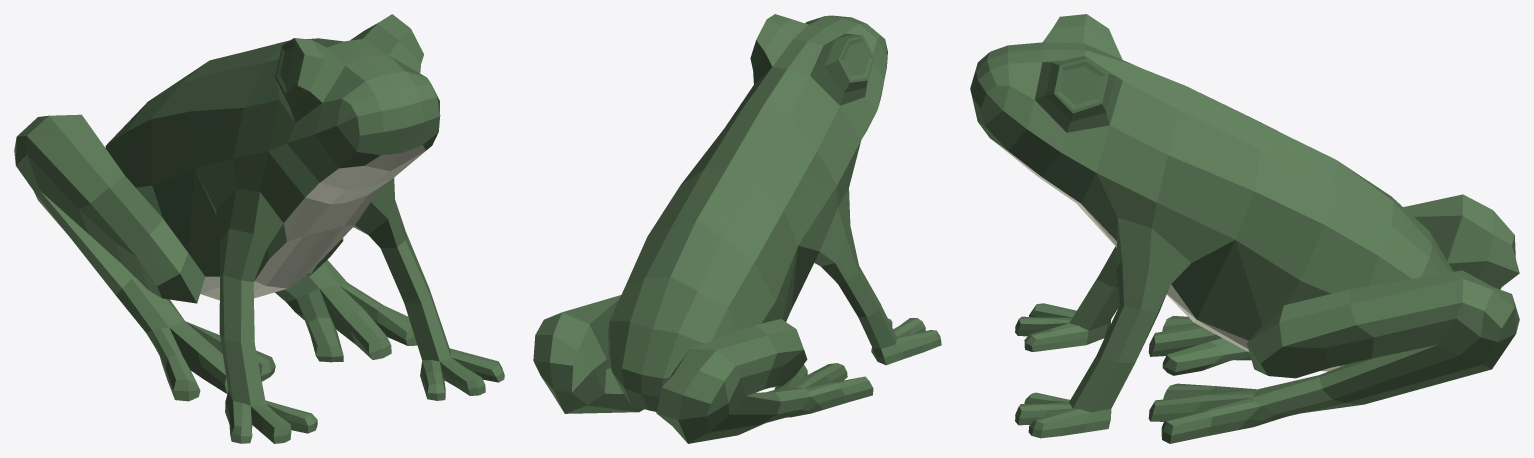
Rendered from frog.glb.
3 renders of one model, left to right at view 1: azimuth 30°, elevation 25°; view 2: azimuth 150°, elevation 25°; view 3: azimuth 270°, elevation 25°, orthographic. The views are drawn at different scales.
Visible parts, largest first — view 1: 11frogFinal; view 2: 11frogFinal; view 3: 11frogFinal.
Part boxes in pixels (left/top/right/bottom): 11frogFinal: left=14, top=14, right=504, bottom=443; 11frogFinal: left=533, top=14, right=941, bottom=443; 11frogFinal: left=970, top=14, right=1519, bottom=443.
Bounding box in the file's own units: 0.131 × 0.1729 × 0.2448.
Materials: 1 (1 with a texture image).
